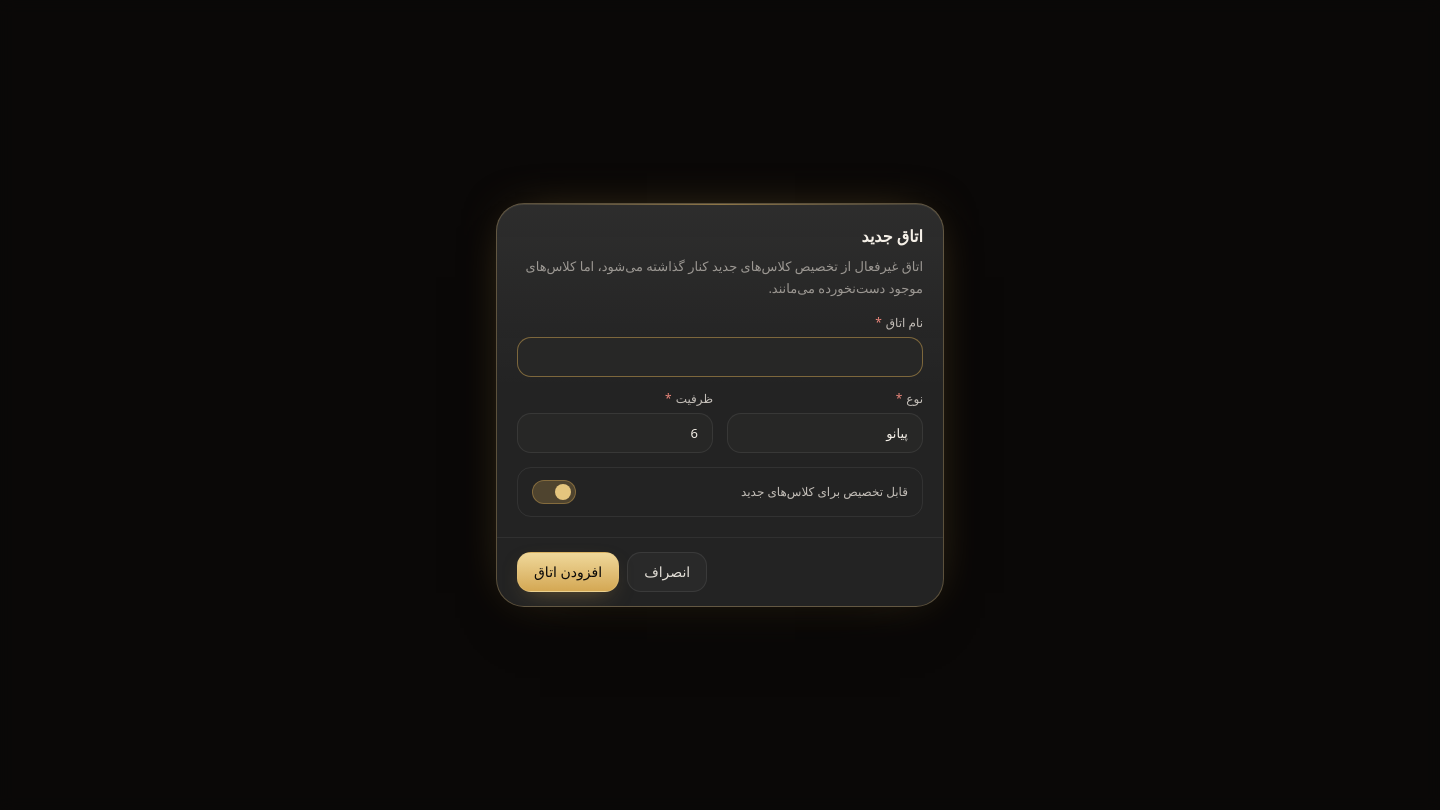
Test: room dialog › surfaces a duplicate room name reported by the repository
Type "اتاق ۱" into the field labelled "نام اتاق*". click: (720, 357)
box: [517, 337, 923, 377]
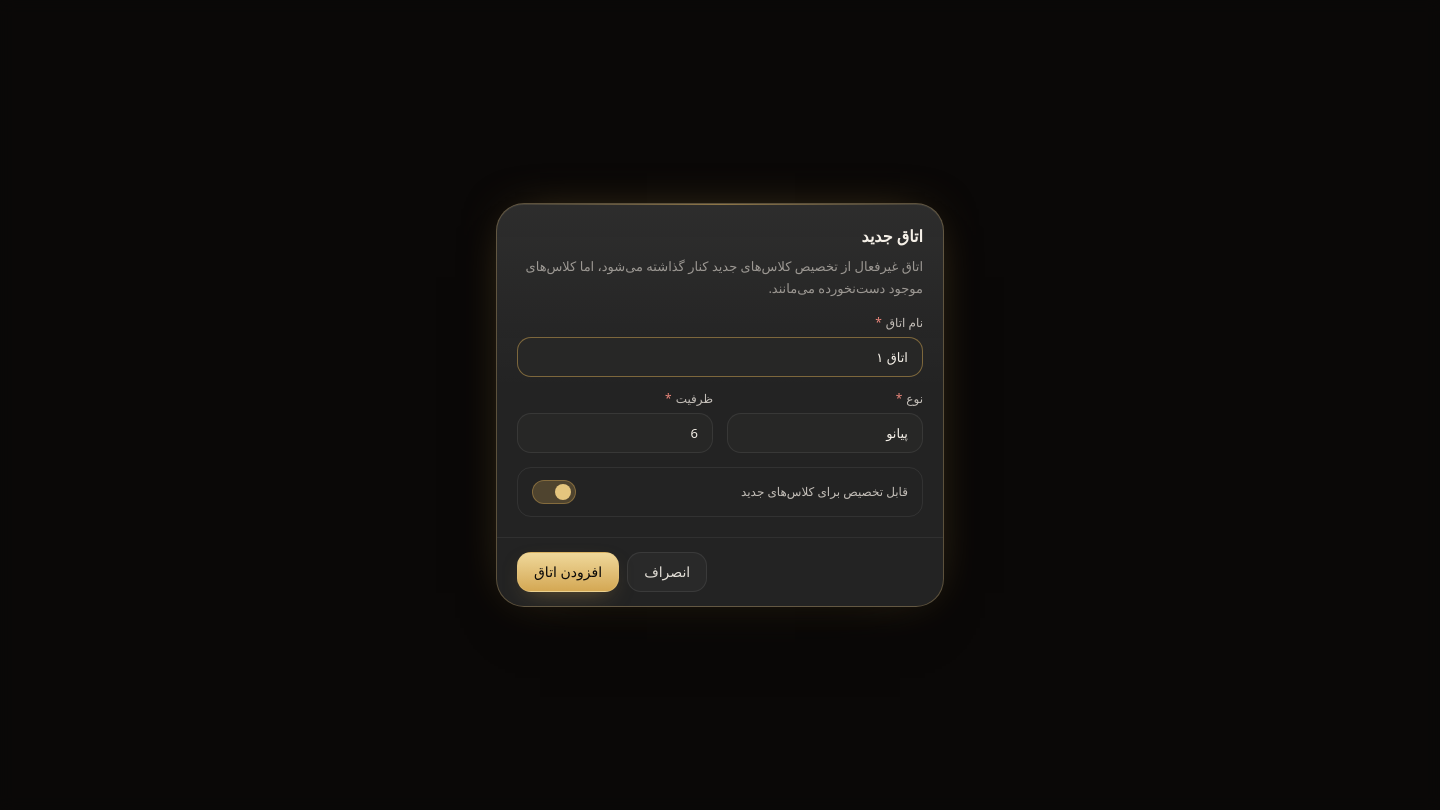
Replace the text in the field labelled "ظرفیت*" with "5". click: (615, 433)
box: [517, 413, 713, 453]
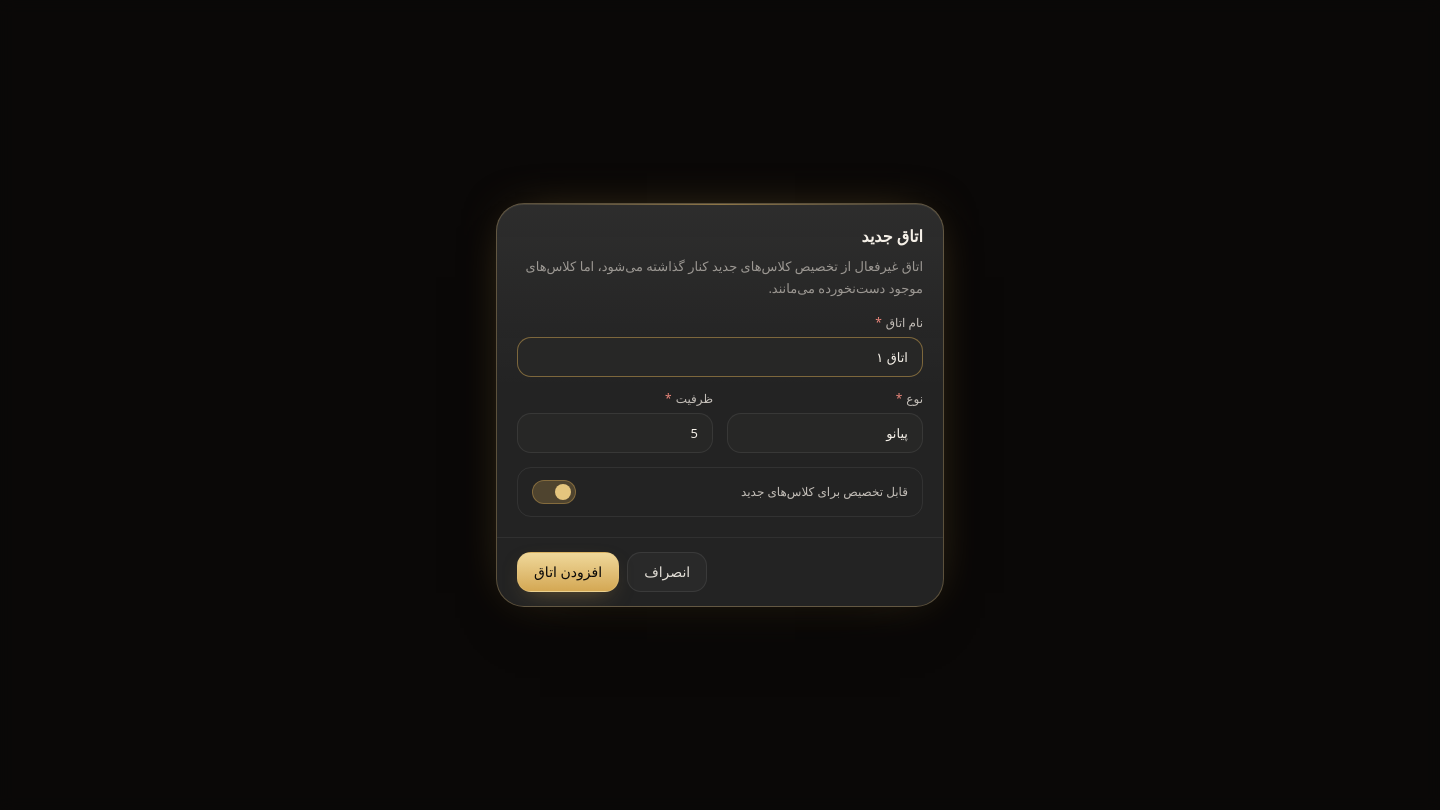
Click the button "افزودن اتاق". click: (568, 572)
box: [517, 552, 619, 592]
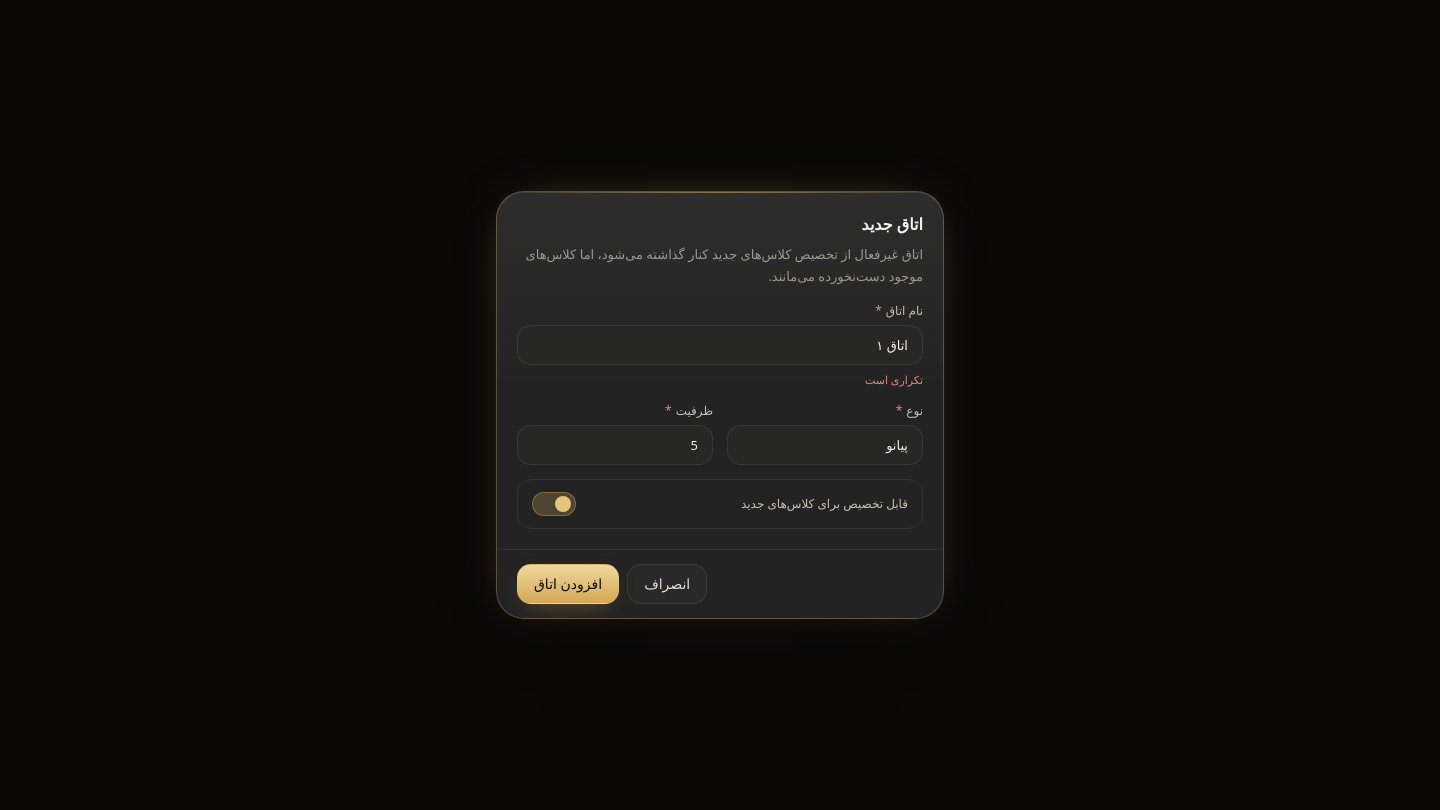
Now the message "تکراری است" is shown, box [865, 372, 923, 387]
